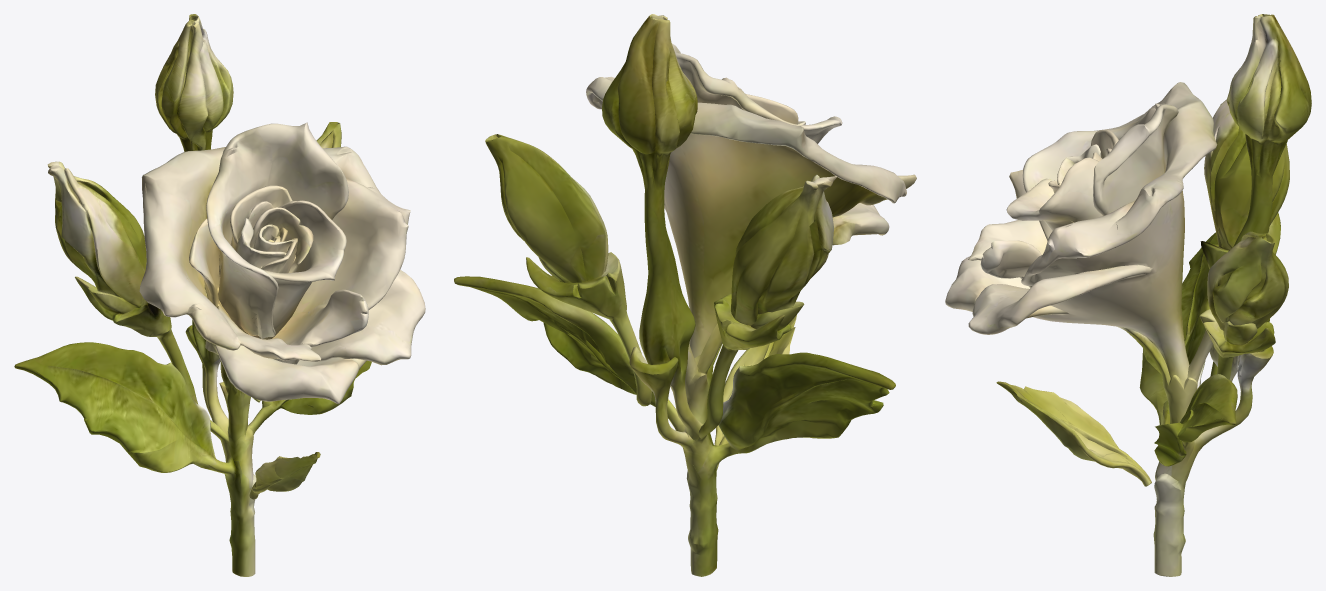
File: white_garden_rose.glb
3 renders of one model, left to right at view 1: azimuth 30°, elevation 25°; view 2: azimuth 150°, elevation 25°; view 3: azimuth 270°, elevation 25°, orthographic. The views are drawn at different scales.
Parts seen in each view (by area): view 1: model; view 2: model; view 3: model.
Part boxes in pixels (<box>): model: <box>14,14,425,576</box>; model: <box>454,14,916,576</box>; model: <box>945,14,1311,576</box>.
Size of the model in its own units: 1.47 by 1.9 by 1.13.
Materials: 1 (1 with a texture image).
